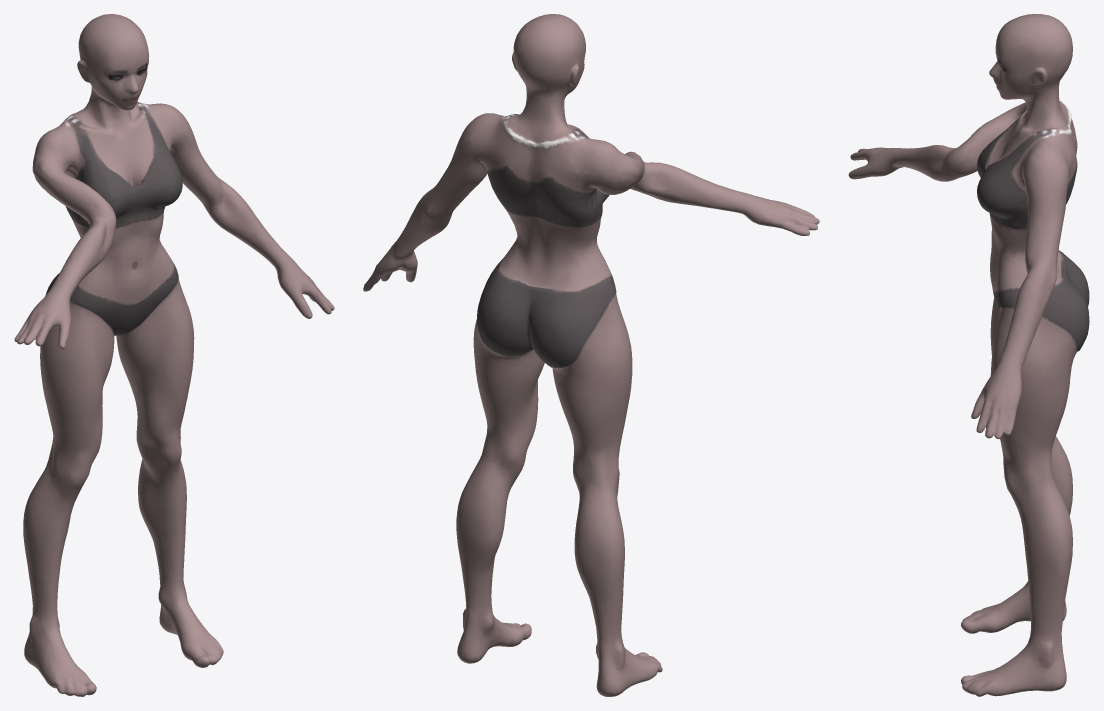
File: 14-UpperArmL-60-child60-twist-20-candidate.glb
3 views of the same model, side by side, from view 1: azimuth 30°, elevation 25°; view 2: azimuth 150°, elevation 25°; view 3: azimuth 270°, elevation 25° (orthographic). The views are drawn at different scales.
Visible parts, largest first — view 1: candidate; view 2: candidate; view 3: candidate.
Part boxes in pixels (x1,y1,x2,y2): candidate: (14, 14, 334, 696); candidate: (363, 14, 819, 696); candidate: (848, 14, 1089, 696).
Bounding box in the file's own units: 0.6182 × 1 × 0.3406.
1 material, 1 textured.
